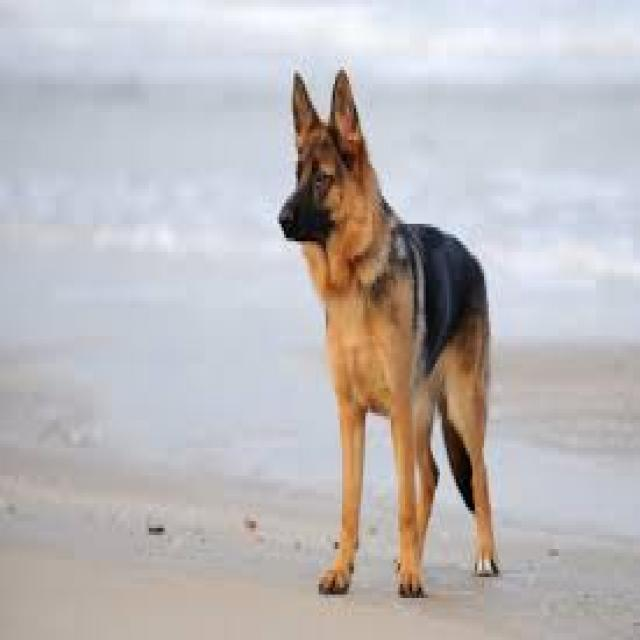Dog: (274, 64, 506, 604)
